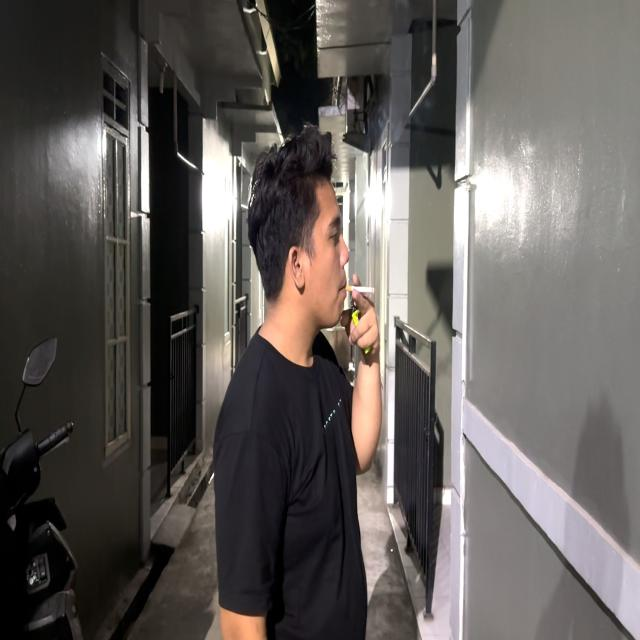cigarette: (347, 283, 376, 294)
smoking: (246, 129, 382, 476)
